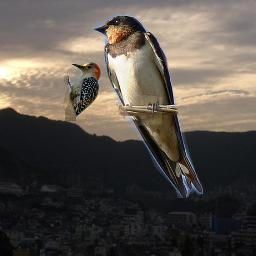Swallow: (92, 14, 203, 198)
Woodpecker: (63, 59, 109, 121)
